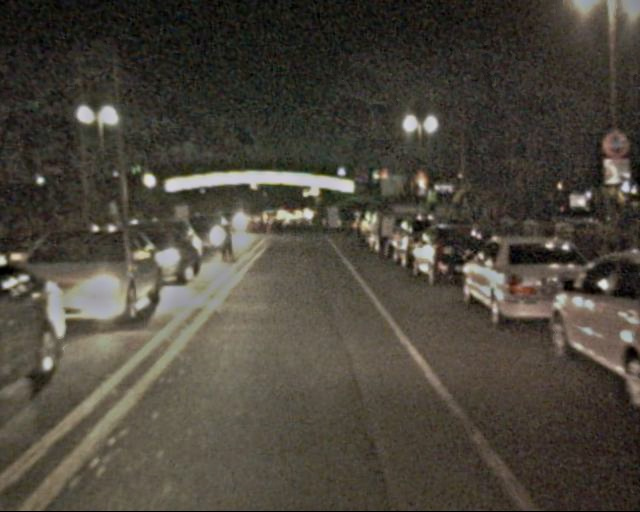person: (369, 208, 393, 267)
